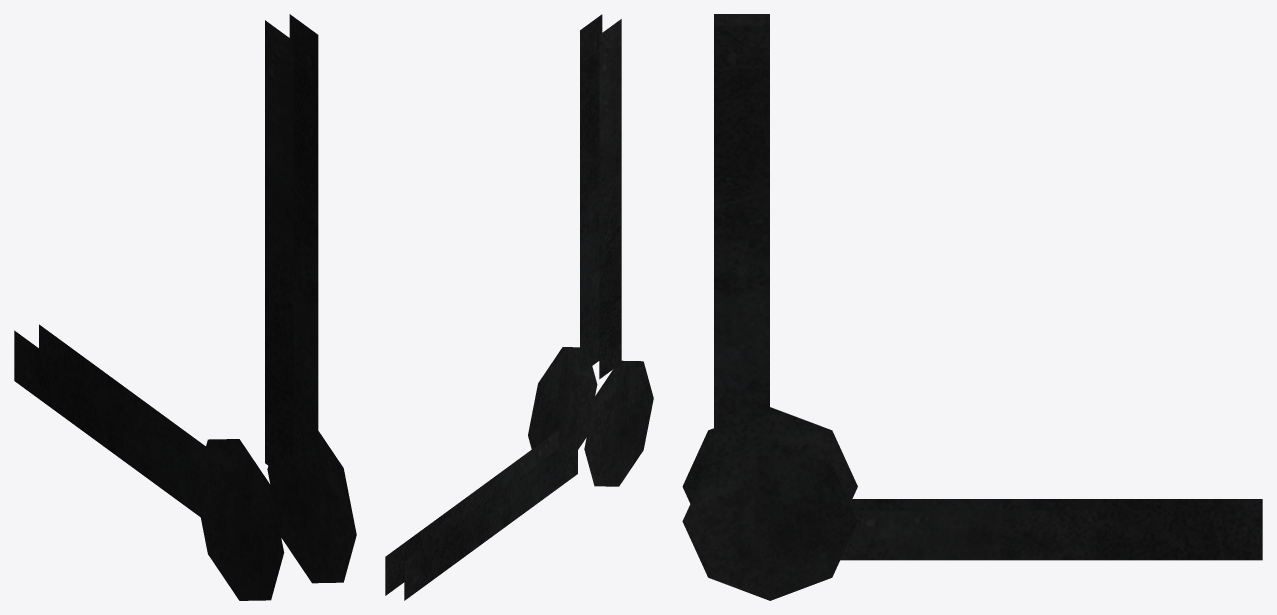
File: p_jun_windowbend_lod2.glb
The picture shows the model from 3 angles, left to right: view 1: azimuth 30°, elevation 25°; view 2: azimuth 150°, elevation 25°; view 3: azimuth 270°, elevation 25°; orthographic projection. The views are drawn at different scales.
Parts seen in each view (by area): view 1: surf0; view 2: surf0; view 3: surf0.
Boxes of the visible parts, x1,y1,x2,y2 form: surf0: (14,14,356,600); surf0: (385,14,653,600); surf0: (682,14,1262,600).
Size of the model in its own units: 1.5 by 11.35 by 10.57.
